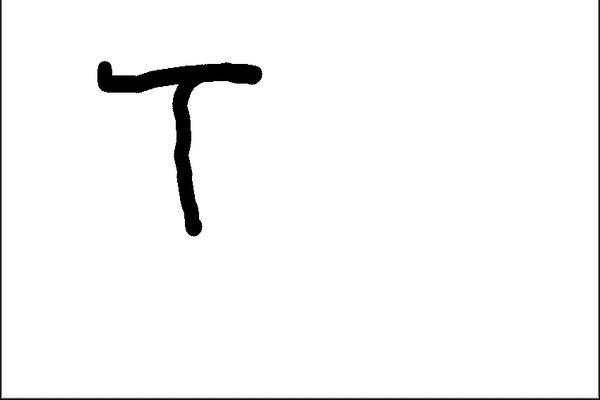T: (91, 58, 265, 239)
